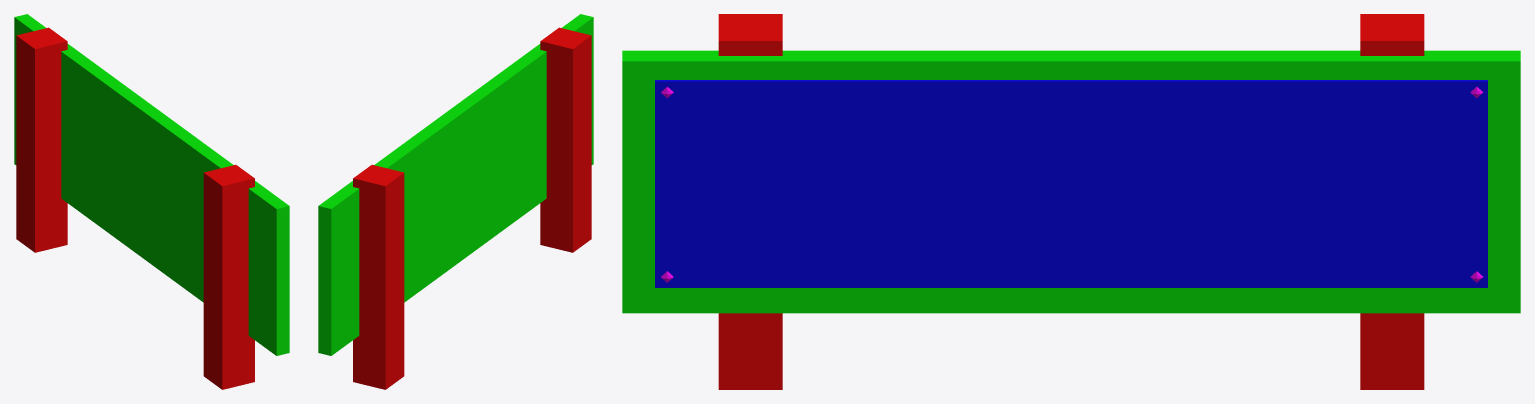
The model's file is Sign_V001.fbx.
The picture shows the model from 3 angles, left to right: view 1: azimuth 30°, elevation 25°; view 2: azimuth 150°, elevation 25°; view 3: azimuth 270°, elevation 25°; orthographic projection. The views are drawn at different scales.
Parts seen in each view (by area): view 1: Board2, Post1, Post2; view 2: Board2, Post2, Post1; view 3: Board1, Board2, Post1, Post2.
Part boxes in pixels (x1,y1,x2,y2): Board2: (14,14,289,355); Post1: (203,164,254,389); Post2: (16,27,67,252); Board2: (318,14,593,355); Post2: (353,164,404,389); Post1: (540,27,591,252); Board1: (655,80,1487,287); Board2: (622,50,1520,313); Post1: (718,14,782,389); Post2: (1360,14,1424,389).
Size of the model in its own units: 1.34 by 6 by 14.
